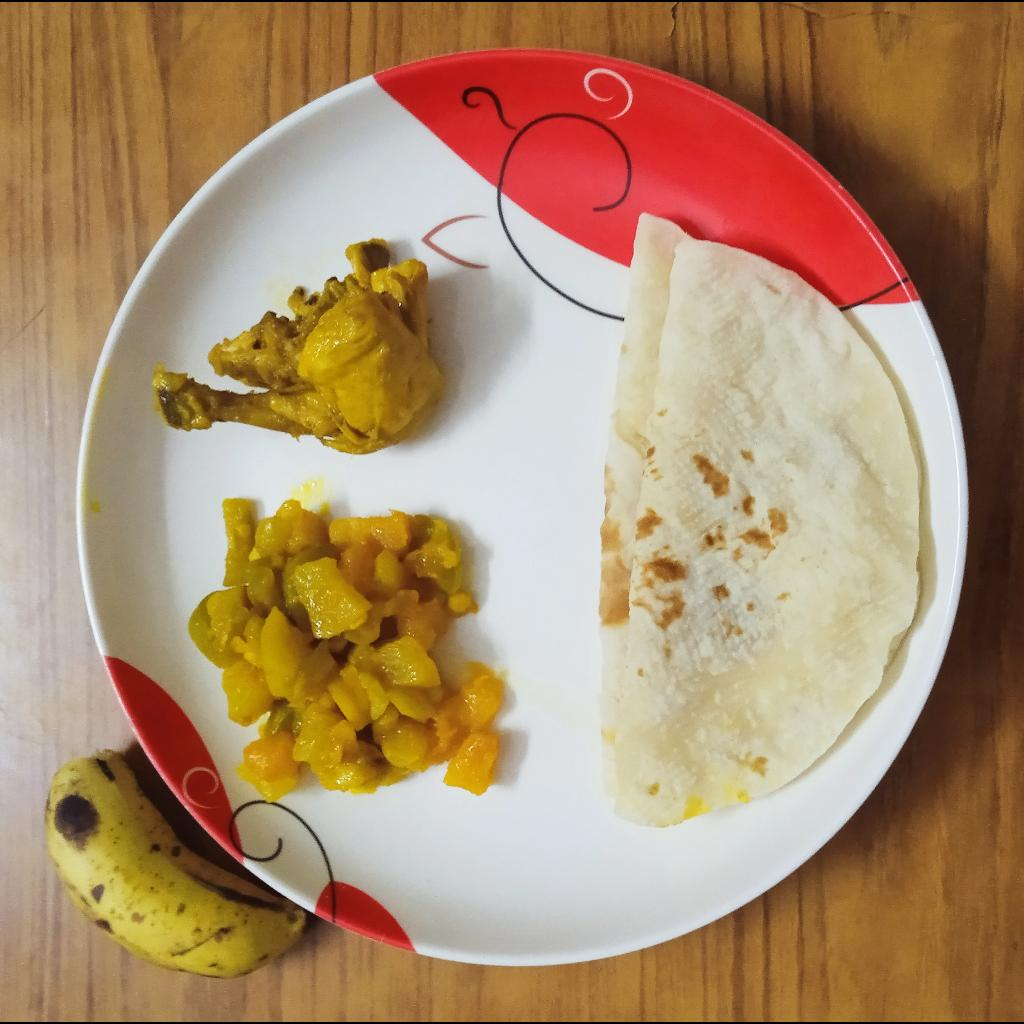banana: (45, 750, 317, 982)
chicken: (153, 238, 445, 451)
ruti: (595, 212, 925, 833)
vegetable: (181, 501, 506, 803)
